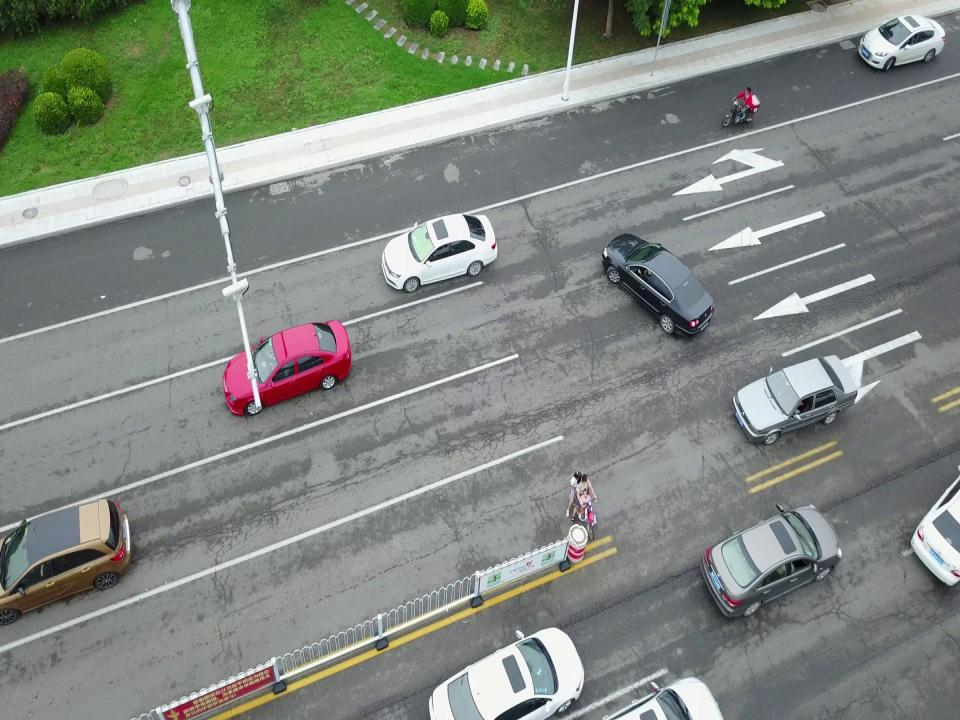car: (680, 504, 851, 617), (0, 496, 132, 616), (416, 626, 584, 720), (220, 319, 350, 415), (730, 352, 861, 443), (600, 230, 716, 331), (377, 213, 498, 292), (910, 451, 960, 589), (855, 15, 945, 72)
